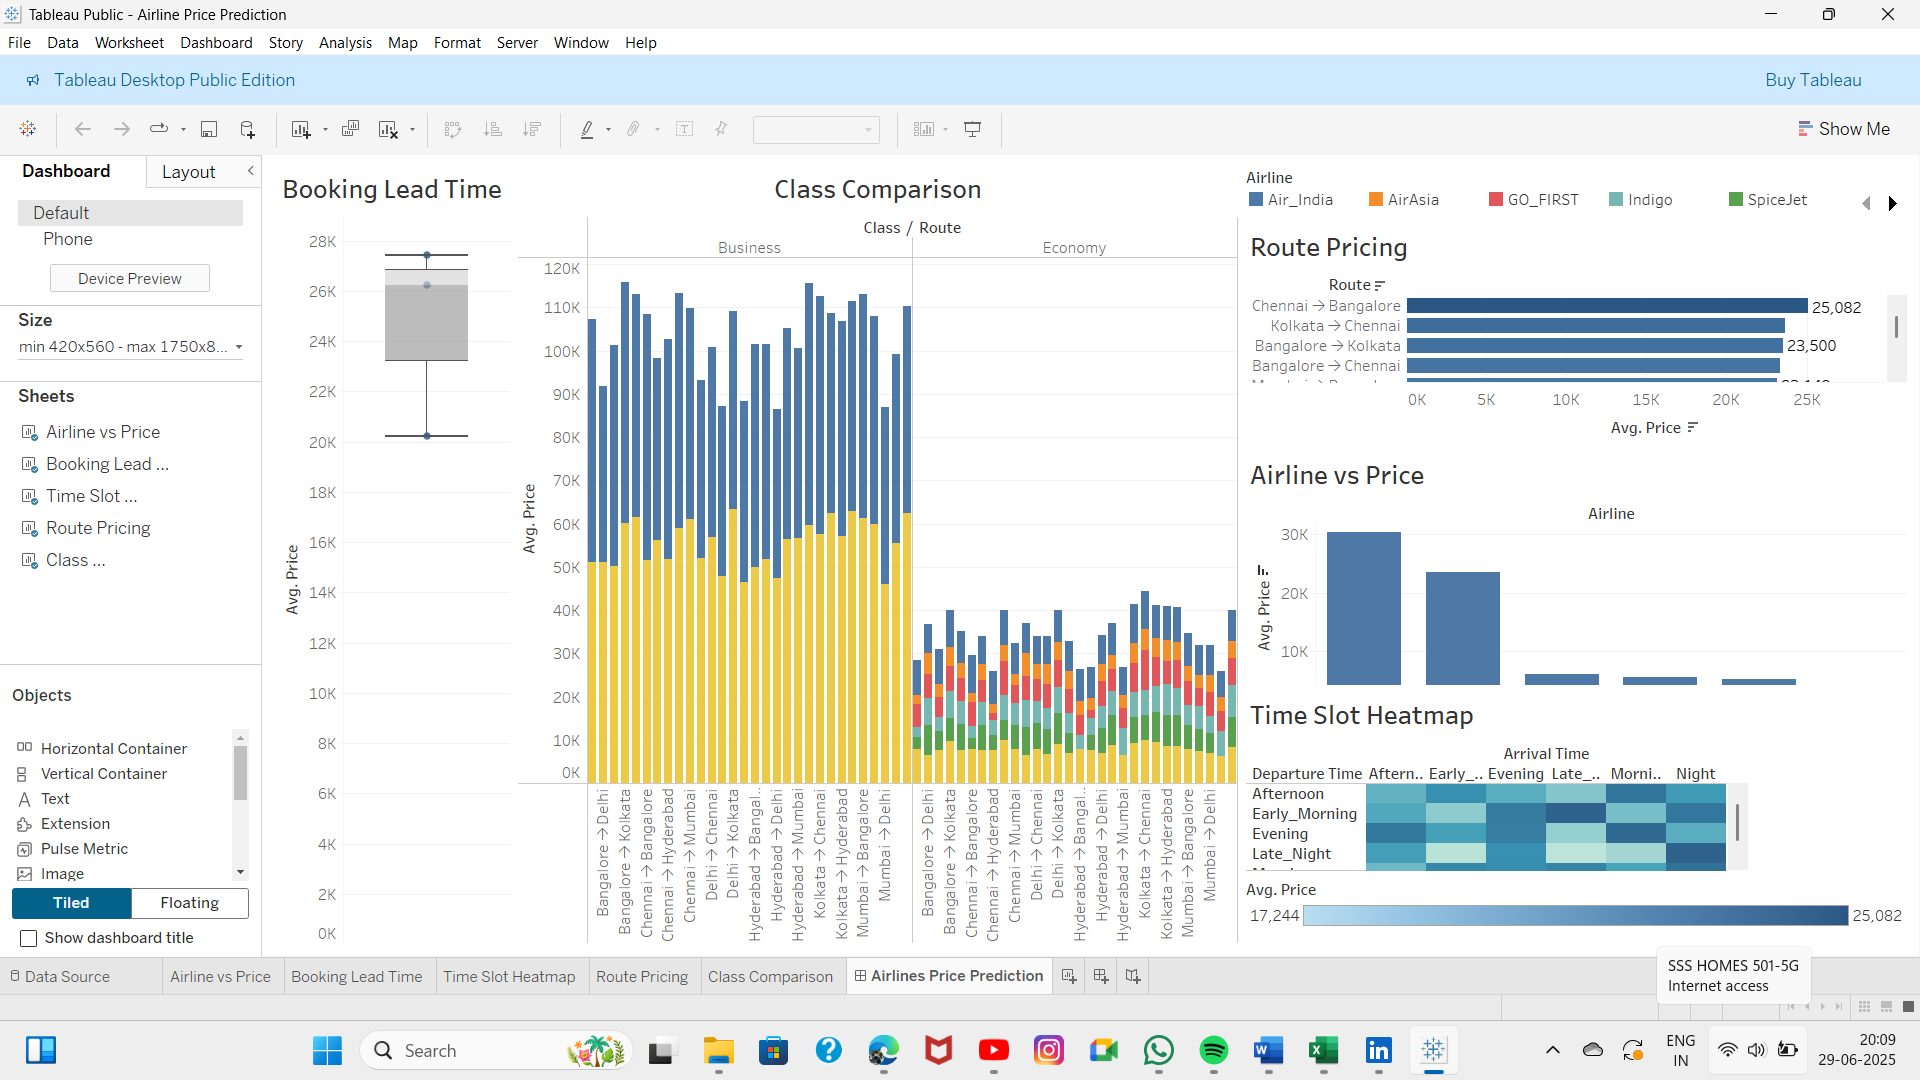

What the dashboard file says about the page in this screenshot:
{"tool":"tableau","page":{"name":"Airlines Price Prediction","canvas":[1000,1000],"units":"permille","ordinal":0},"visuals":[{"type":"worksheet","title":"Booking Lead Time","mark":"Circle","rows":["price"],"box":[4.7,10,147.6,980]},{"type":"worksheet","title":"Class Comparison","mark":"Automatic","rows":["price"],"cols":["class","Calculation_1314206692344877057"],"box":[152.3,10,451.1,980]},{"type":"legend","title":"Class Comparison","param":"[federated.0sspk1l1hqqm8d16qae2802zz40i].[none:airline:nk]","box":[603.4,10,391.9,72.4]},{"type":"worksheet","title":"Route Pricing","mark":"Automatic","rows":["Calculation_1314206692344877057"],"cols":["price"],"box":[603.4,82.4,391.9,284.7]},{"type":"worksheet","title":"Airline vs Price","mark":"Automatic","rows":["price"],"cols":["airline"],"box":[603.4,367.1,391.9,299.6]},{"type":"worksheet","title":"Time Slot Heatmap","mark":"Square","rows":["departure_time"],"cols":["arrival_time"],"box":[603.4,666.7,391.9,232.2]},{"type":"legend","title":"Route Pricing","param":"[federated.0sspk1l1hqqm8d16qae2802zz40i].[avg:price:qk]","box":[603.4,898.9,391.9,91.1]}]}

Visuals, with their boxes on the dashboard's canvas, which has no fixed pixel size, in thousandths of its width and height (x1, y1, x2, y2). These are canvas units, not pixel positions in the 1920x1080 screenshot, which may show the page scaled, cropped or inside an application window:
"Booking Lead Time" worksheet (Circle marks): select_region(5, 10, 152, 990)
"Class Comparison" worksheet: select_region(152, 10, 603, 990)
"Class Comparison" legend: select_region(603, 10, 995, 82)
"Route Pricing" worksheet: select_region(603, 82, 995, 367)
"Airline vs Price" worksheet: select_region(603, 367, 995, 667)
"Time Slot Heatmap" worksheet (Square marks): select_region(603, 667, 995, 899)
"Route Pricing" legend: select_region(603, 899, 995, 990)
